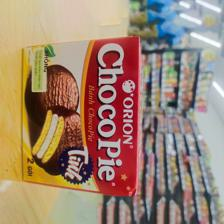Chocopie: (19, 34, 142, 198)
